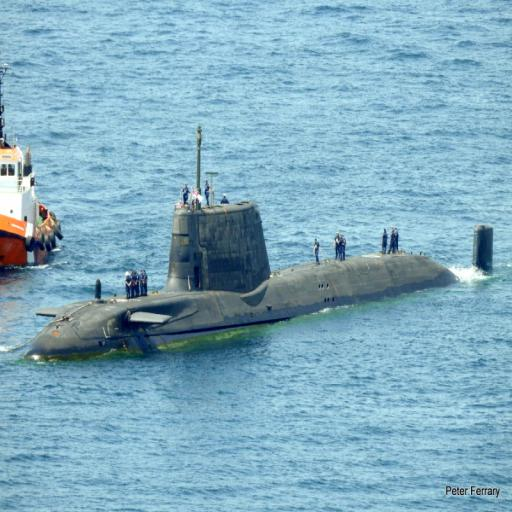submarine: (29, 121, 502, 362)
